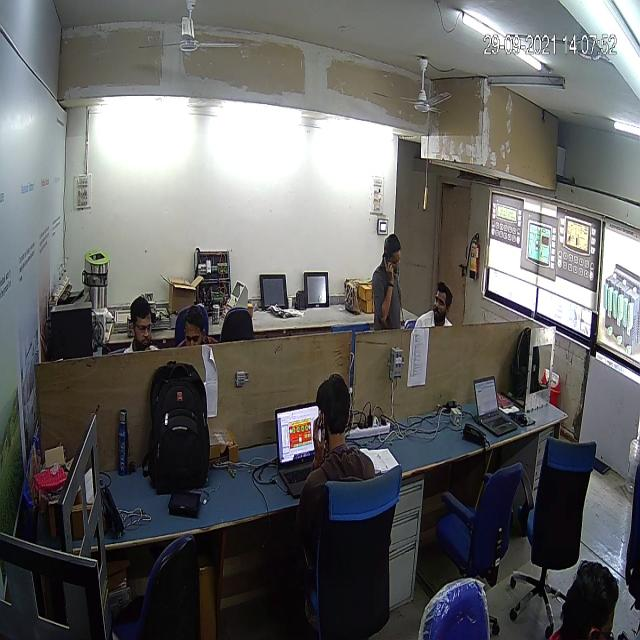adult: (370, 223, 410, 344)
